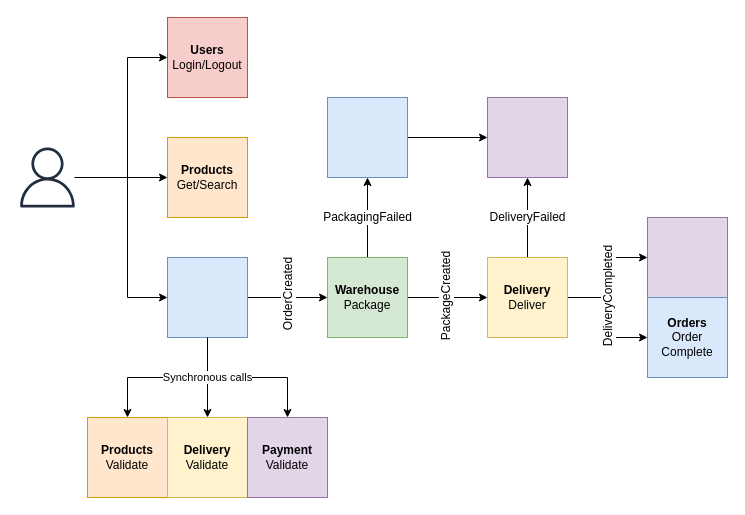
Image size: 745x515. Some labels were removed from this diagram. Each missing label, with the centre of its shape:
Orders CreateOrder: the point at 207,297
Orders Order Cancelled: the point at 367,137
Payment Cancel Payment: the point at 527,137
Payment Process Payment: the point at 687,257
